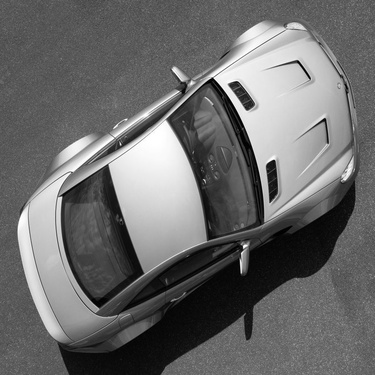dog: (1, 20, 373, 371)
